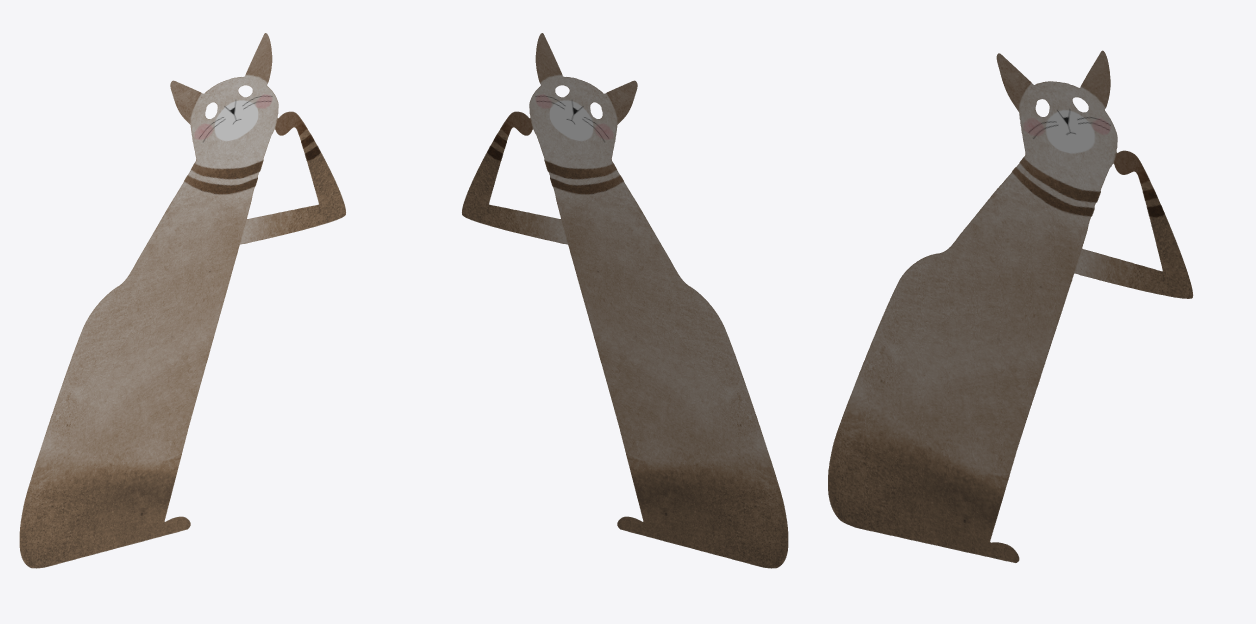
Rendered from Gat_Inicial.fbx.
3 views of the same model, side by side, from view 1: azimuth 30°, elevation 25°; view 2: azimuth 150°, elevation 25°; view 3: azimuth 330°, elevation 25° (orthographic). The views are drawn at different scales.
Visible parts, largest first — view 1: gato; view 2: gato; view 3: gato.
Boxes of the visible parts, bbox=[...] form: gato: bbox=[19, 33, 345, 568]; gato: bbox=[462, 33, 788, 568]; gato: bbox=[828, 50, 1193, 562].
Size of the model in its own units: 6251 by 8263 by 0.00323.
